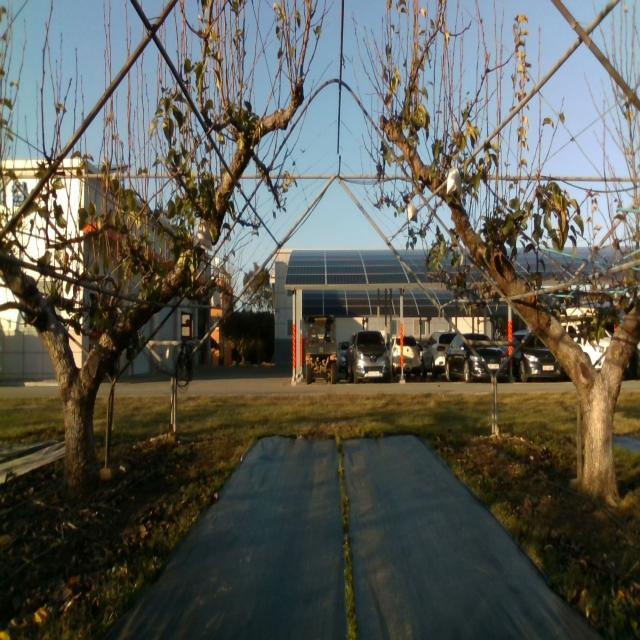pearbags: (194, 219, 212, 252), (446, 162, 462, 196)
